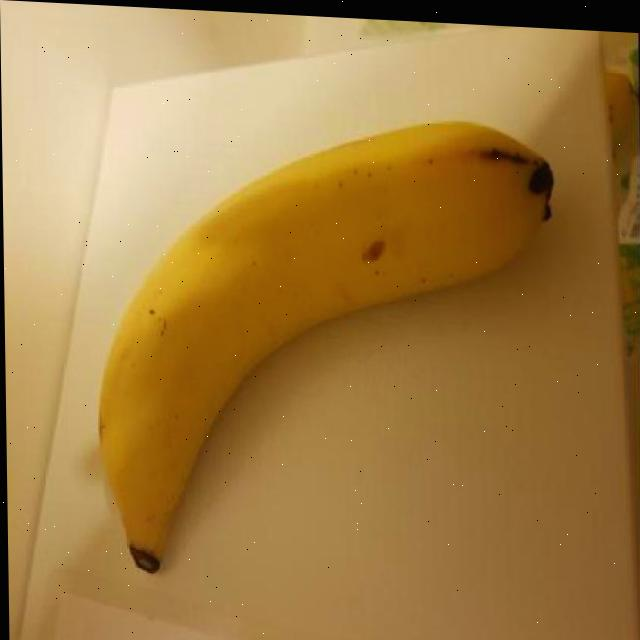banana: (84, 82, 571, 603)
